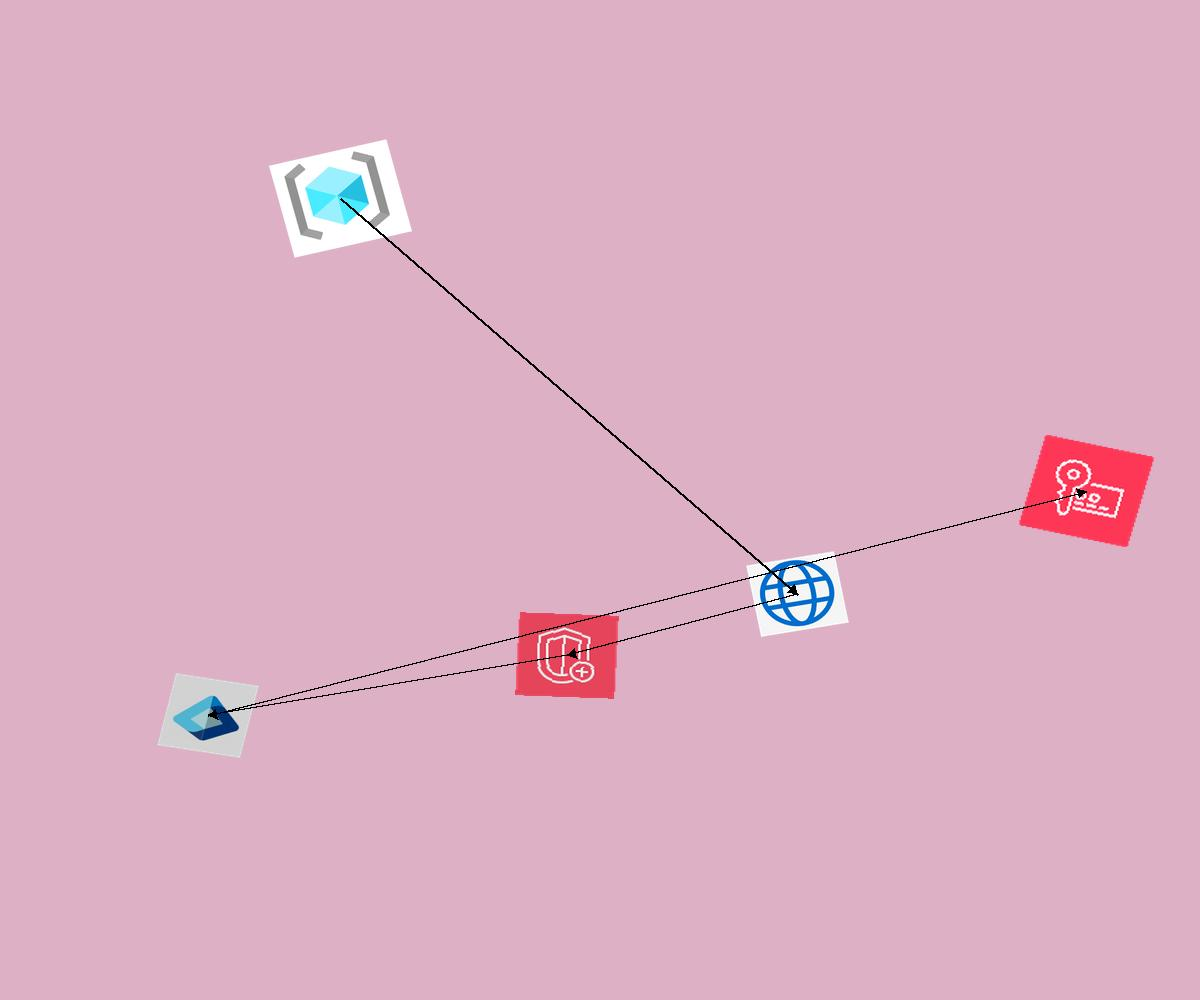AWS-Key-Management-Service: (1018, 434, 1155, 548)
AWS-Shield: (515, 612, 619, 699)
Azure_http: (746, 551, 849, 637)
Azure_microsoft_entra: (157, 673, 259, 758)
Azure_resource_group: (269, 139, 412, 258)
